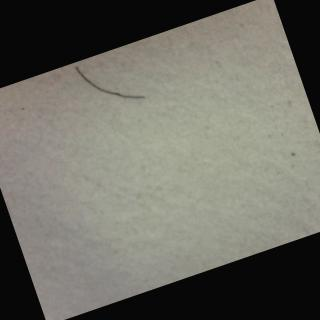Microplastic: (52, 43, 160, 130)
